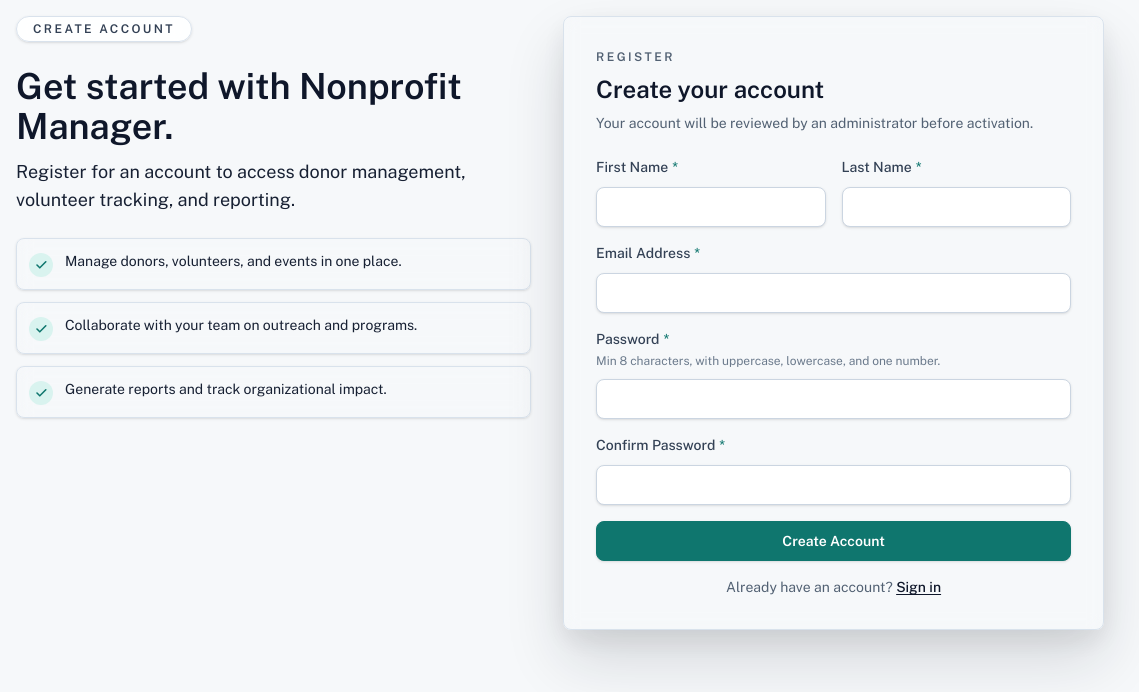
it: Register page › still submits a pending approval when passkey setup is unavailable
Type "New" into the field labelled "First Name*".
click(711, 207); type("New")  # box [596,187,826,227]
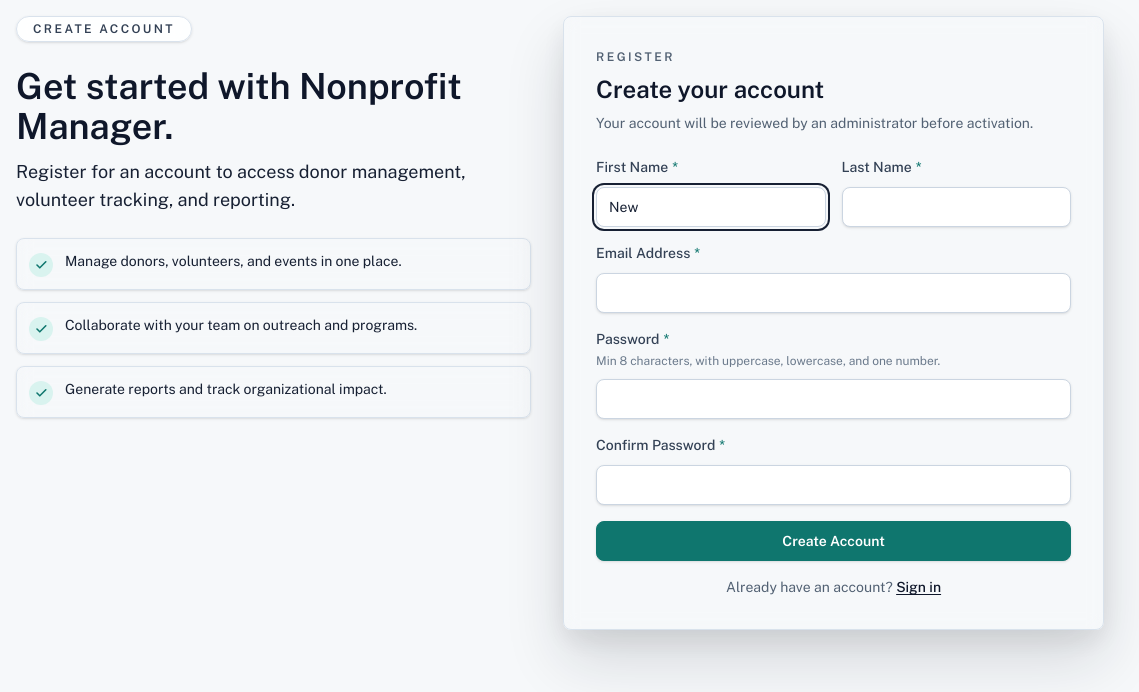
Type "User" into the field labelled "Last Name*".
click(956, 207); type("User")  # box [842,187,1071,227]
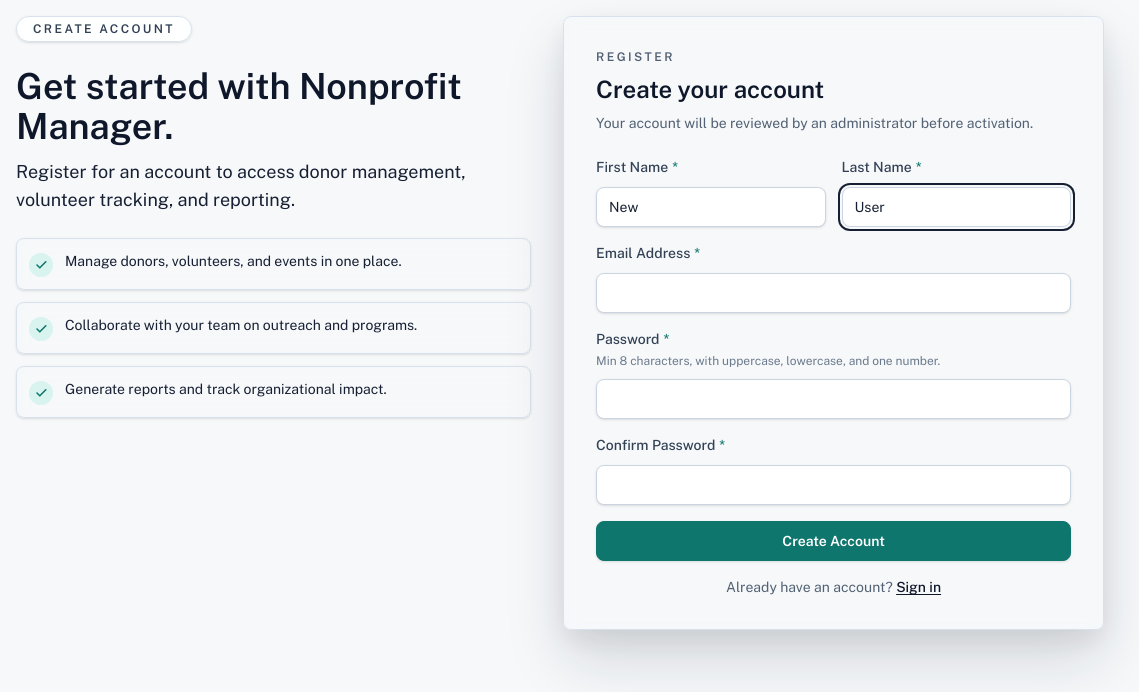
Type "new@example.com" into the field labelled "Email Address*".
click(834, 293); type("new@example.com")  # box [596,273,1071,313]
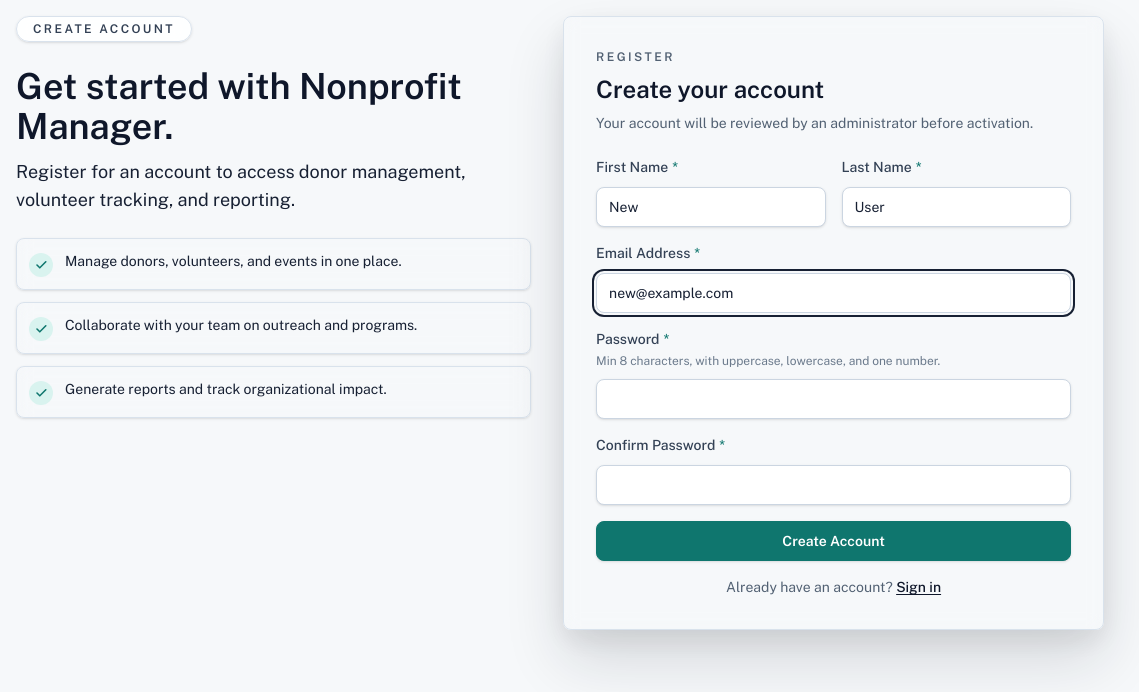
Type "Password123!" into the password field labelled "Password*".
click(834, 399); type("Password123!")  # box [596,379,1071,419]
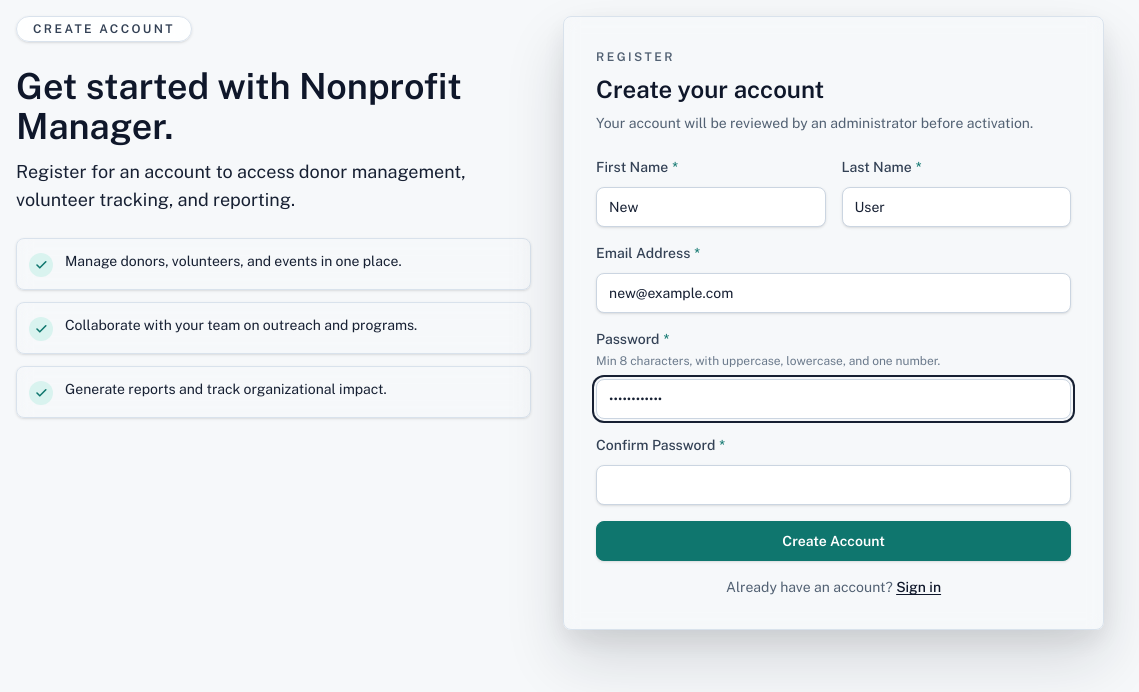
Type "Password123!" into the password field labelled "Confirm Password*".
click(834, 485); type("Password123!")  # box [596,465,1071,505]
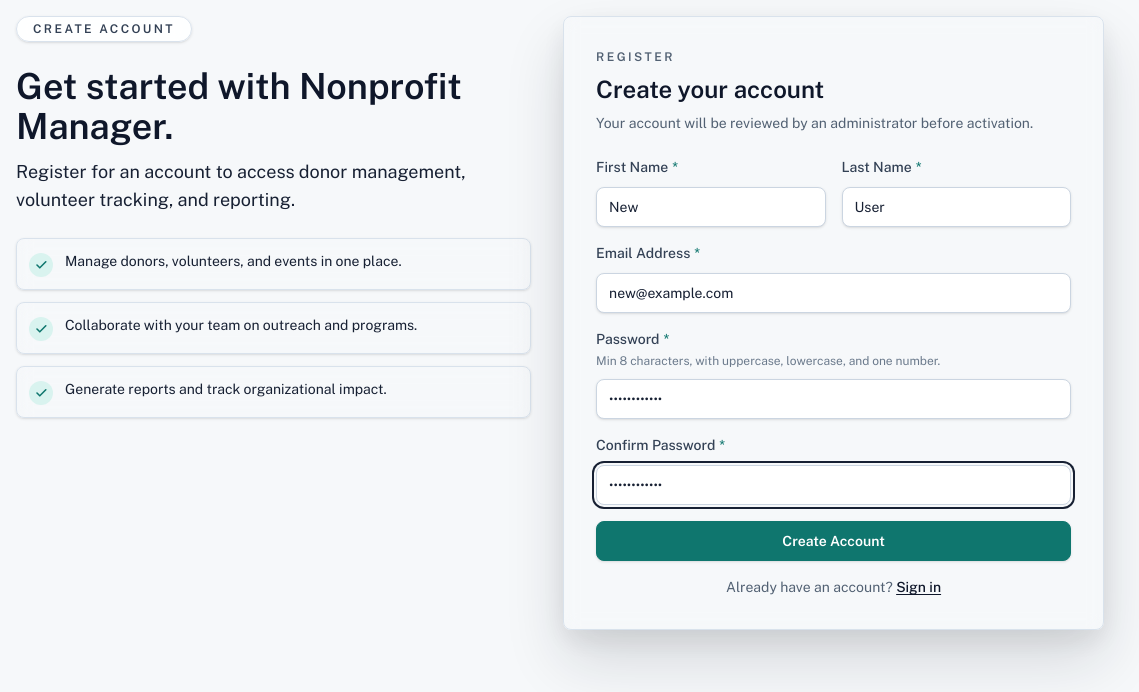
Click the button "Create Account".
click(834, 541)  # box [596,521,1071,561]
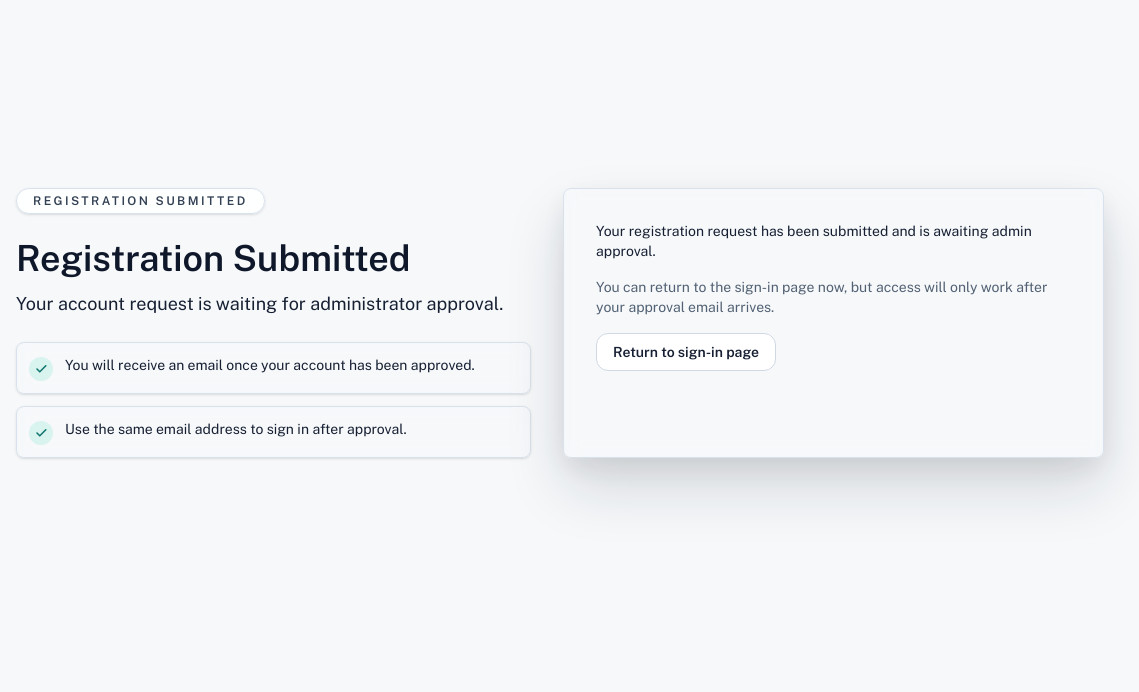
Check: the heading "Registration Submitted" is shown, box [16,237,410,279]
Check: the text "access will only work after your approval email arrives" is shown, box [596,279,1048,315]
